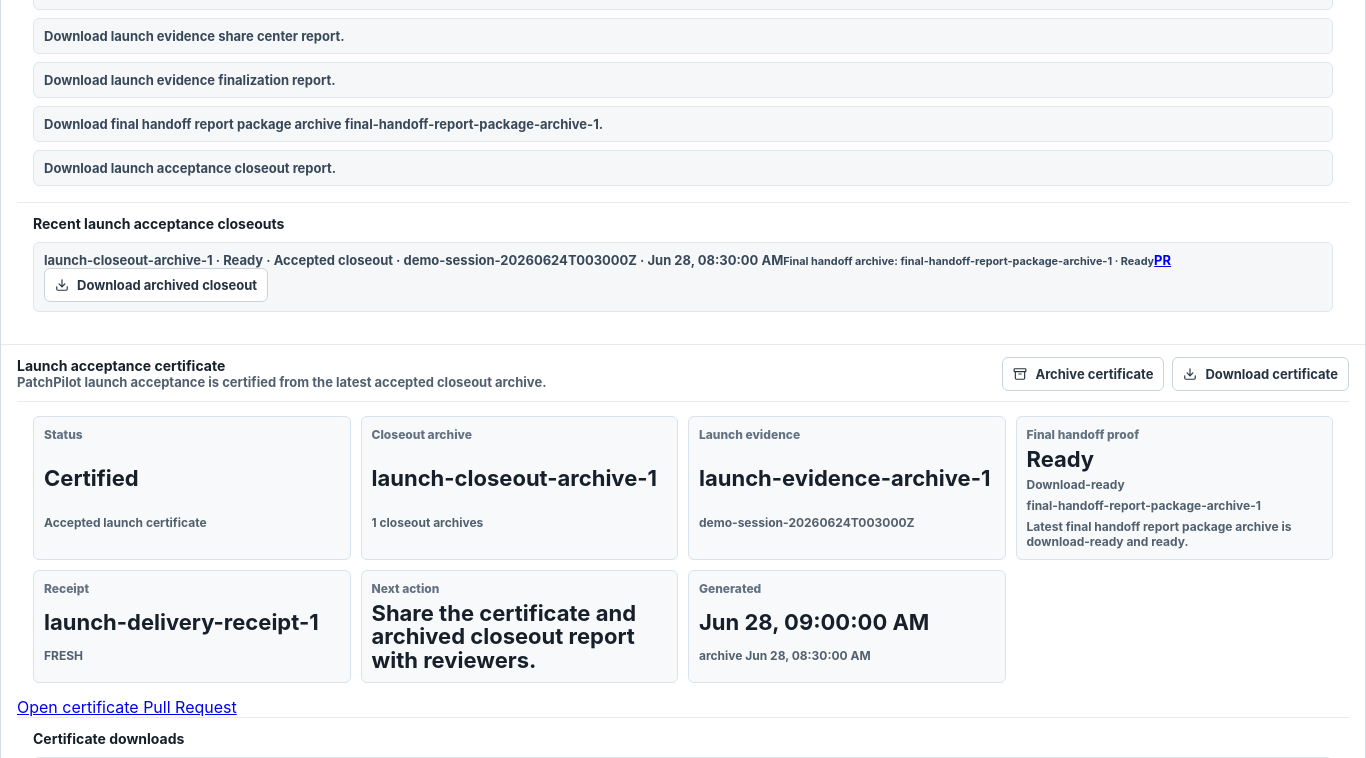
Scenario: downloads launch acceptance certificate markdown report
(page scrolled)
Click the button with aria-label "Download launch acceptance certificate".
click(1261, 374)  # box x1=1172 y1=357 x2=1349 y2=391
(page scrolled)
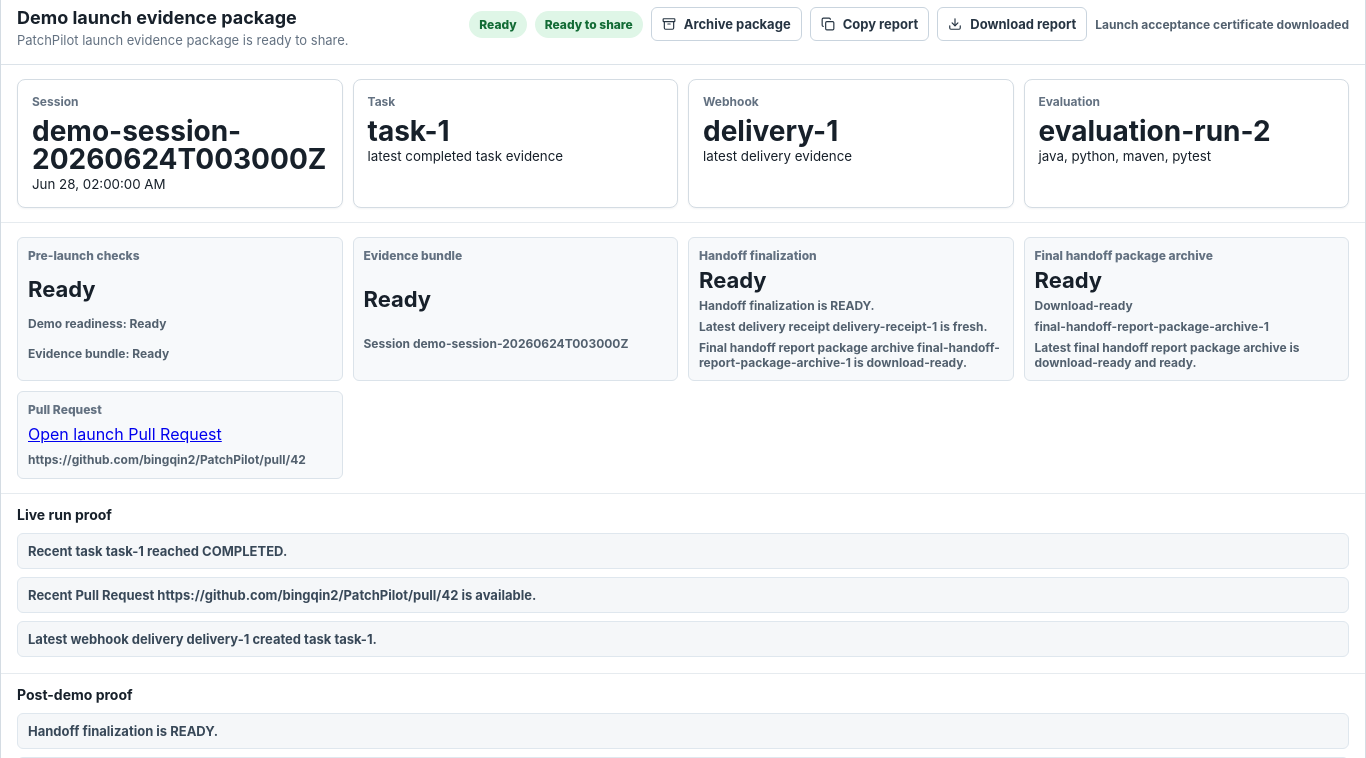
Check: the text "Launch acceptance certificate downloaded" is shown, box x1=1095 y1=16 x2=1349 y2=32
